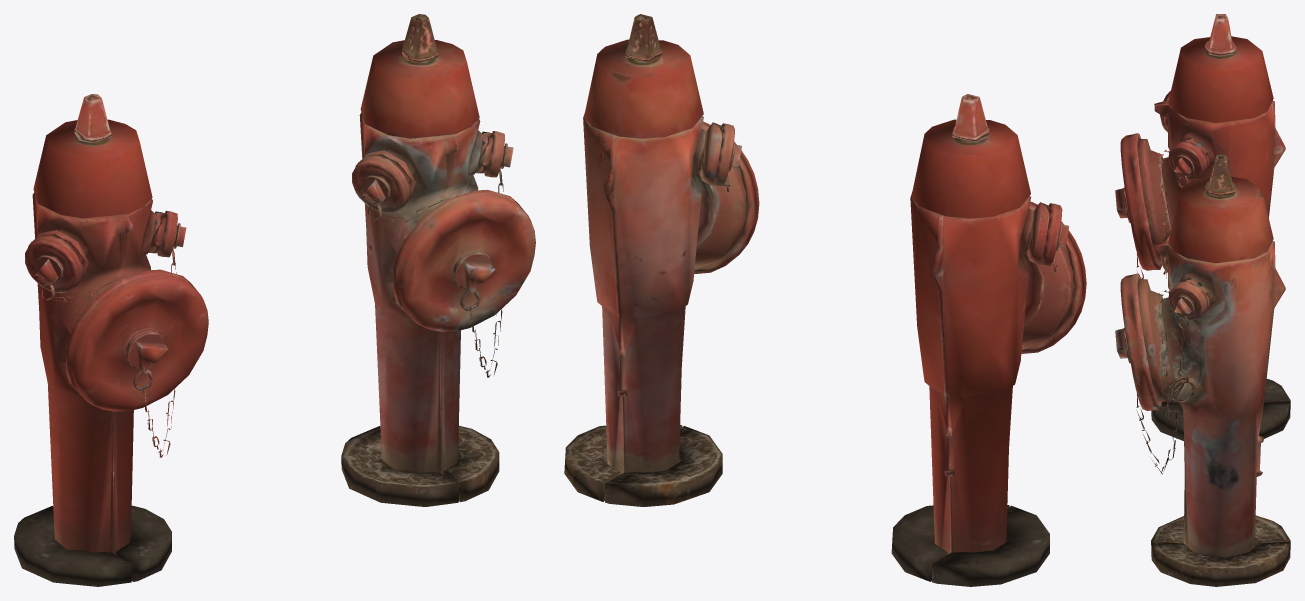
The model's file is fire_hydrant.glb.
The picture shows the model from 3 angles, left to right: view 1: azimuth 30°, elevation 25°; view 2: azimuth 150°, elevation 25°; view 3: azimuth 270°, elevation 25°; orthographic projection. The views are drawn at different scales.
Parts seen in each view (by area): view 1: fire_hydrant_aged, fire_hydrant, fire_hydrant_cap_01_aged, fire_hydrant_cap_01, fire_hydrant_cap_03_aged, fire_hydrant_cap_03, fire_hydrant_chain_aged, fire_hydrant_chain, fire_hydrant_cap_02, fire_hydrant_cap_02_aged; view 2: fire_hydrant_aged, fire_hydrant, fire_hydrant_cap_01, fire_hydrant_cap_01_aged, fire_hydrant_cap_03_aged, fire_hydrant_cap_03; view 3: fire_hydrant_aged, fire_hydrant, fire_hydrant_cap_01_aged, fire_hydrant_cap_01, fire_hydrant_chain_aged, fire_hydrant_cap_02_aged, fire_hydrant_cap_02.
Part boxes in pixels (box(x1,y1,x2,y2)): fire_hydrant_aged: box(341, 14, 499, 506); fire_hydrant: box(14, 94, 171, 586); fire_hydrant_cap_01_aged: box(393, 190, 535, 331); fire_hydrant_cap_01: box(66, 269, 208, 411); fire_hydrant_cap_03_aged: box(352, 155, 410, 213); fire_hydrant_cap_03: box(25, 235, 83, 293); fire_hydrant_chain_aged: box(367, 148, 504, 377); fire_hydrant_chain: box(40, 228, 176, 457); fire_hydrant_cap_02: box(157, 210, 186, 257); fire_hydrant_cap_02_aged: box(484, 131, 513, 177); fire_hydrant_aged: box(564, 14, 747, 506); fire_hydrant: box(891, 94, 1074, 586); fire_hydrant_cap_01: box(1021, 201, 1086, 353); fire_hydrant_cap_01_aged: box(694, 121, 759, 274); fire_hydrant_cap_03_aged: box(712, 123, 741, 186); fire_hydrant_cap_03: box(1039, 203, 1069, 265); fire_hydrant_aged: box(1138, 154, 1290, 586); fire_hydrant: box(1138, 14, 1290, 440); fire_hydrant_cap_01_aged: box(1115, 273, 1161, 410); fire_hydrant_cap_01: box(1115, 133, 1161, 270); fire_hydrant_chain_aged: box(1136, 290, 1195, 474); fire_hydrant_cap_02_aged: box(1168, 281, 1207, 320); fire_hydrant_cap_02: box(1168, 141, 1207, 179).
Bounding box in the file's own units: 0.8745 × 0.7992 × 0.3173.
Materials: 2 (2 with a texture image).
